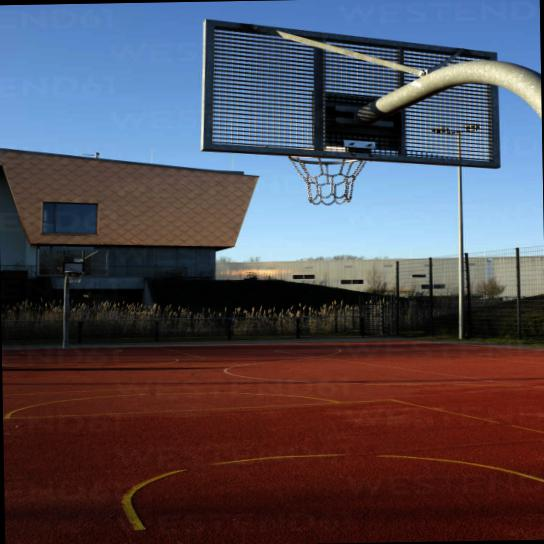basketball-hoop: (283, 140, 380, 206), (60, 269, 87, 284)
